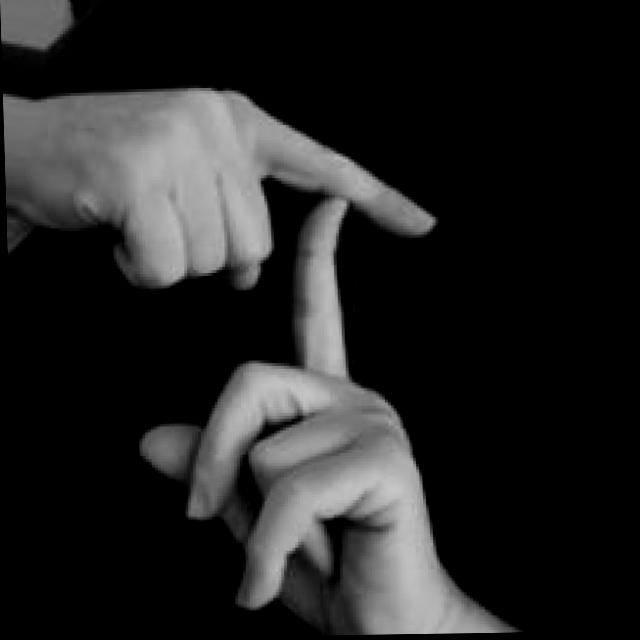T: (2, 73, 486, 640)
